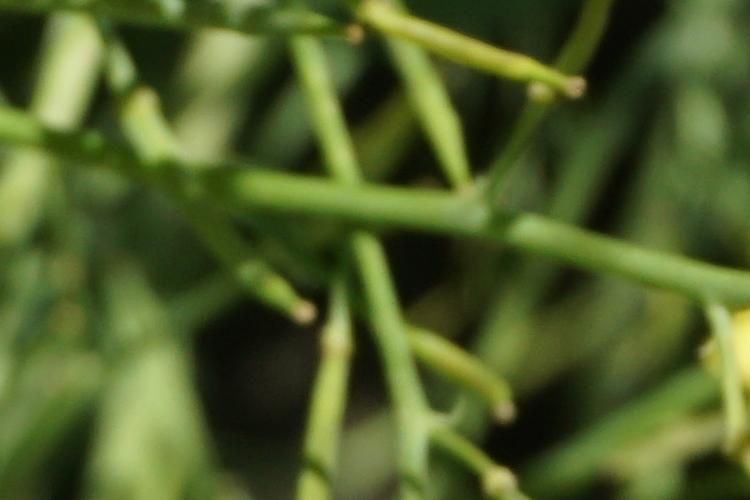pod: (166, 165, 322, 351), (369, 312, 563, 437), (384, 21, 612, 119), (148, 1, 376, 51)
